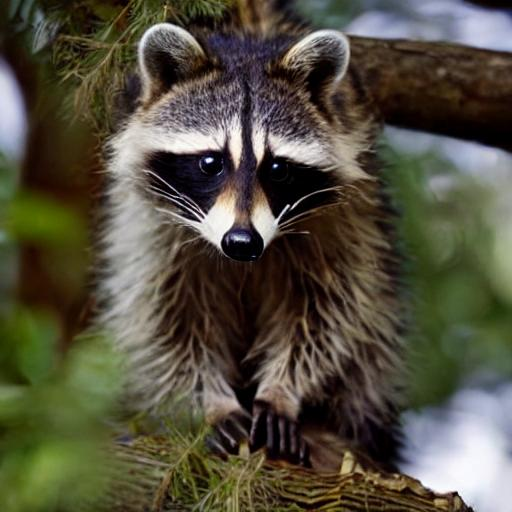raccoon: (92, 8, 420, 418)
